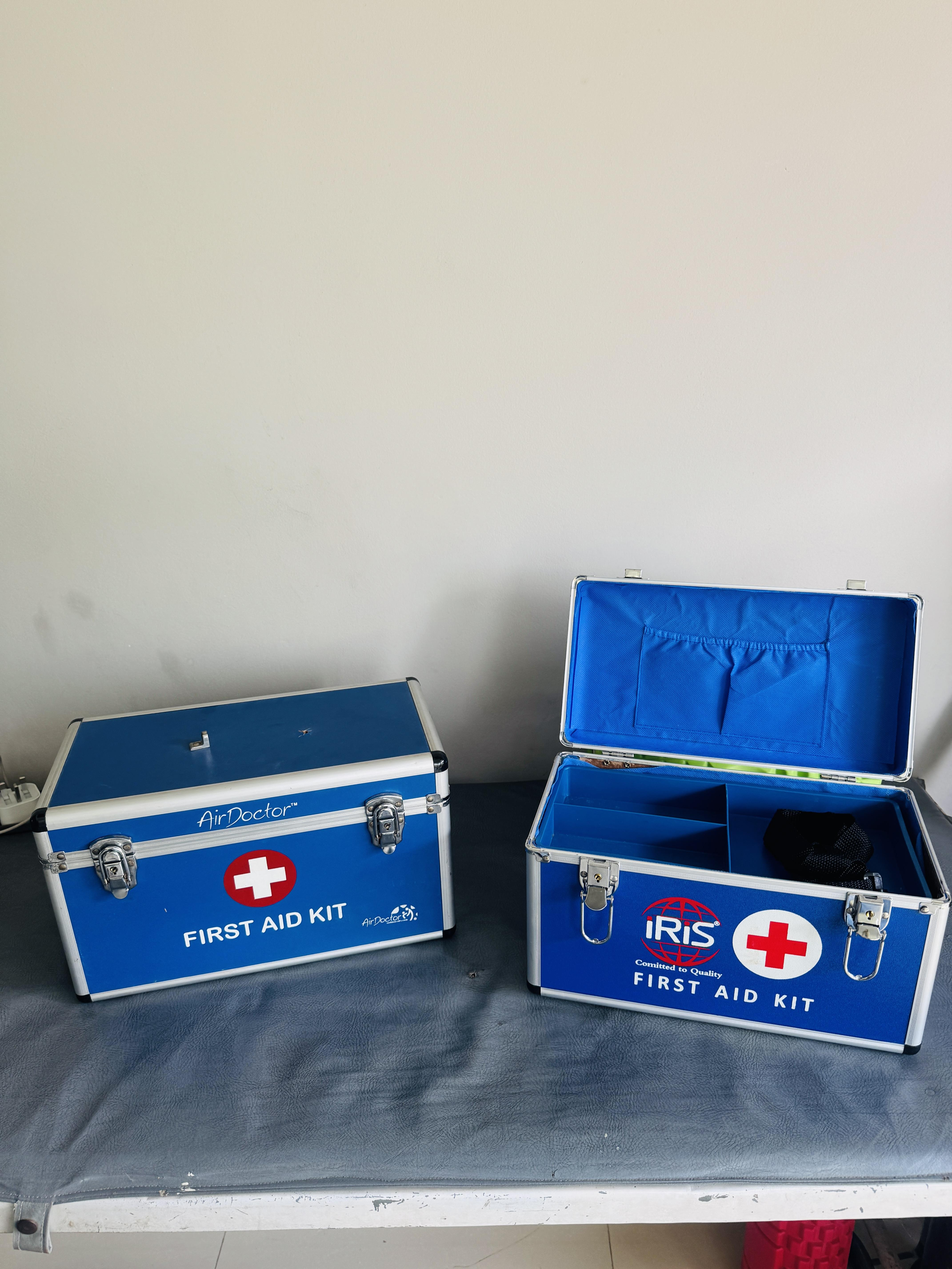FirstAidBox: (512, 538, 952, 1060), (13, 666, 464, 1007)
